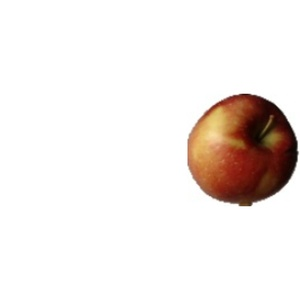maçã braeburn: (182, 90, 299, 203)
